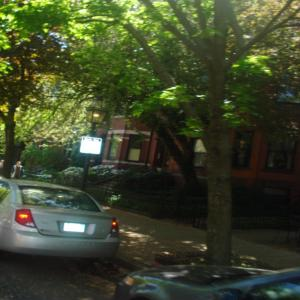Vehicle-registration-plate: (64, 222, 88, 235)
